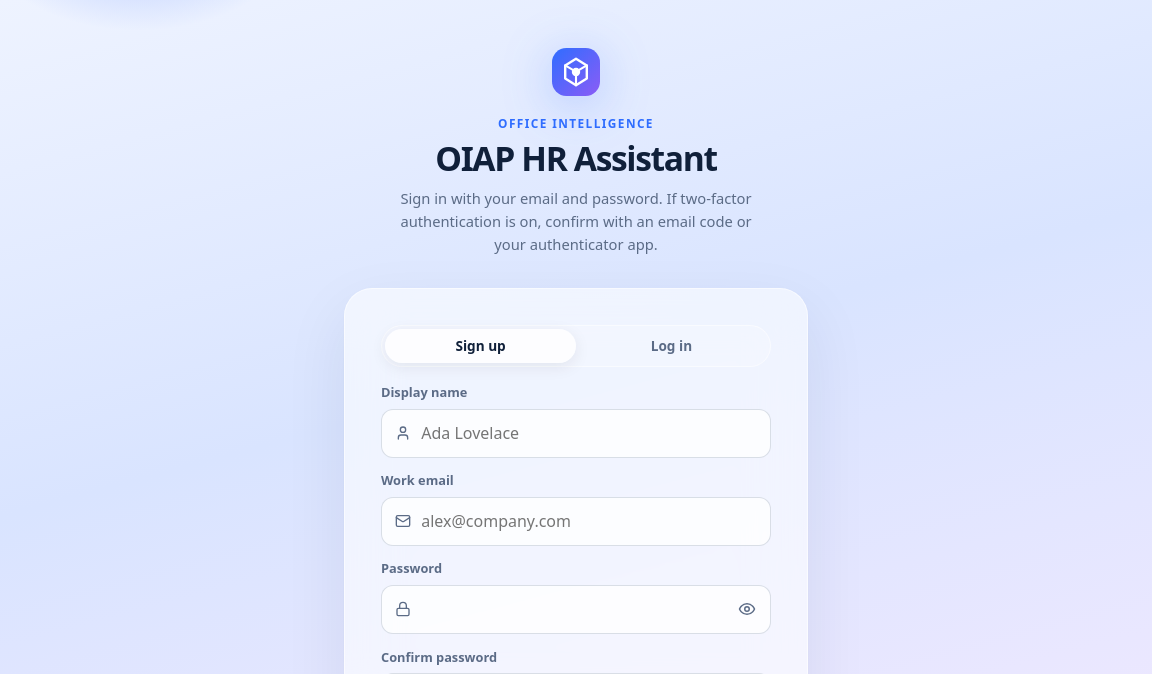
Test: authentication › toggles password visibility between password and text
Click the button named "show password" at (747, 610), box [733, 596, 761, 623]
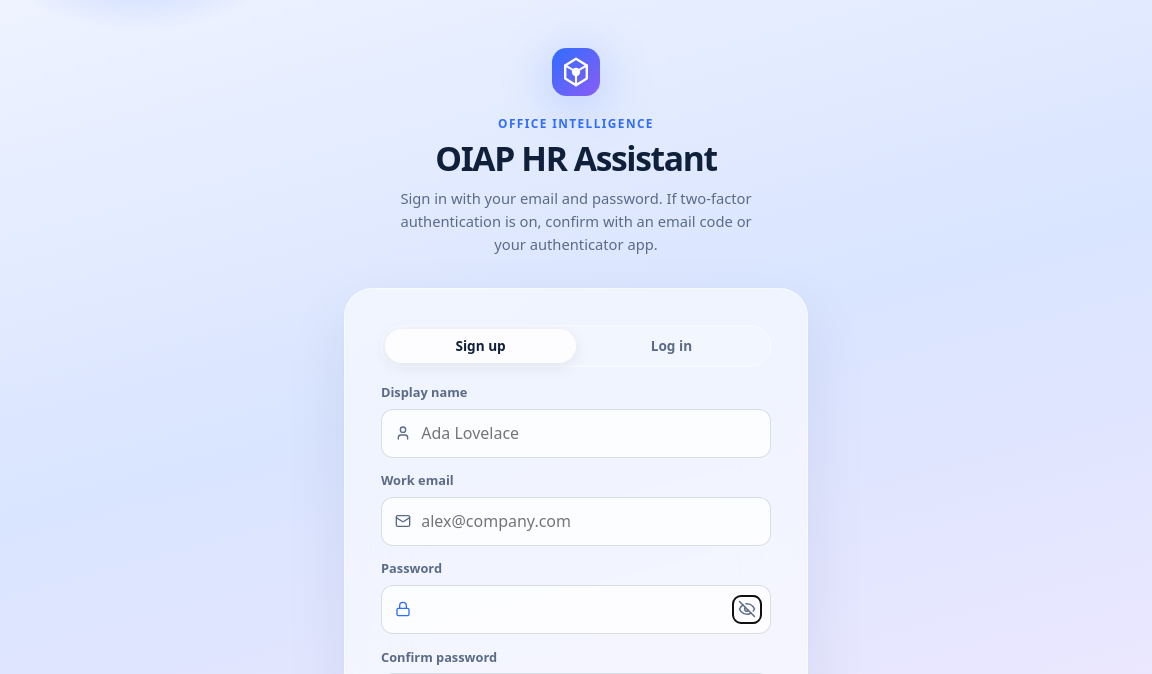
Check: the button named "hide password" is shown, box [733, 596, 761, 623]
